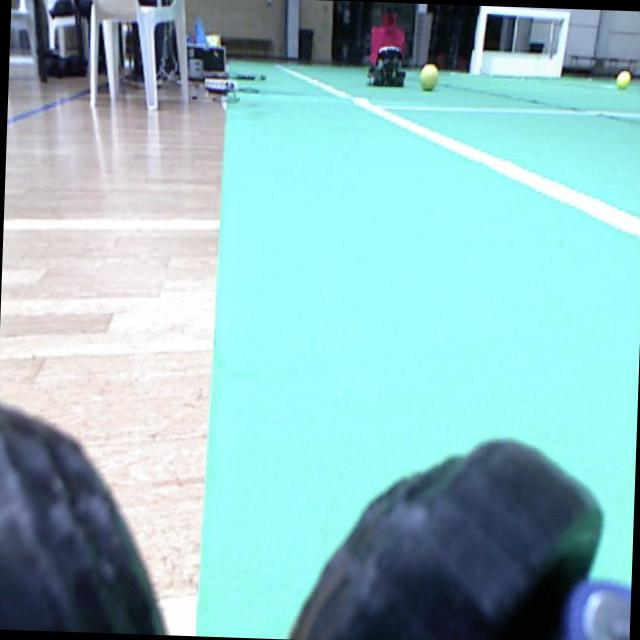ball: (418, 62, 438, 90), (615, 70, 630, 88)
goal: (469, 5, 487, 73), (554, 9, 571, 76)
robot: (368, 11, 404, 85)
